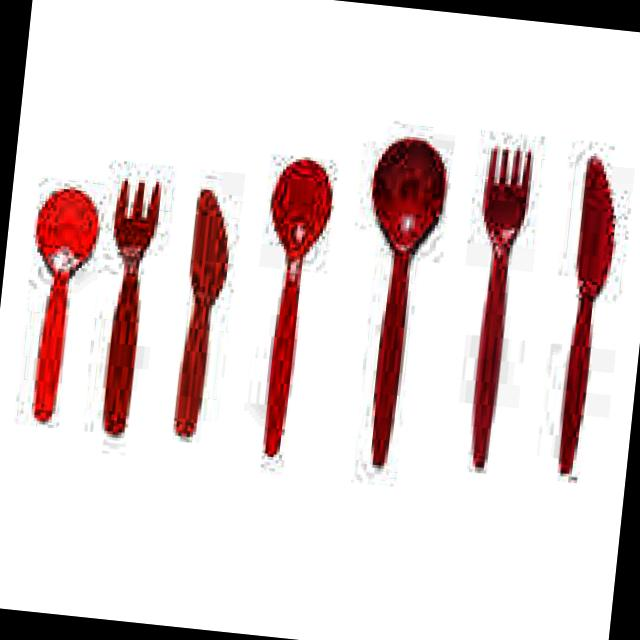plastic utensil: (373, 138, 443, 465), (266, 159, 330, 454), (474, 149, 531, 466), (562, 156, 614, 473), (103, 180, 158, 433), (37, 189, 96, 419), (179, 190, 225, 434)
